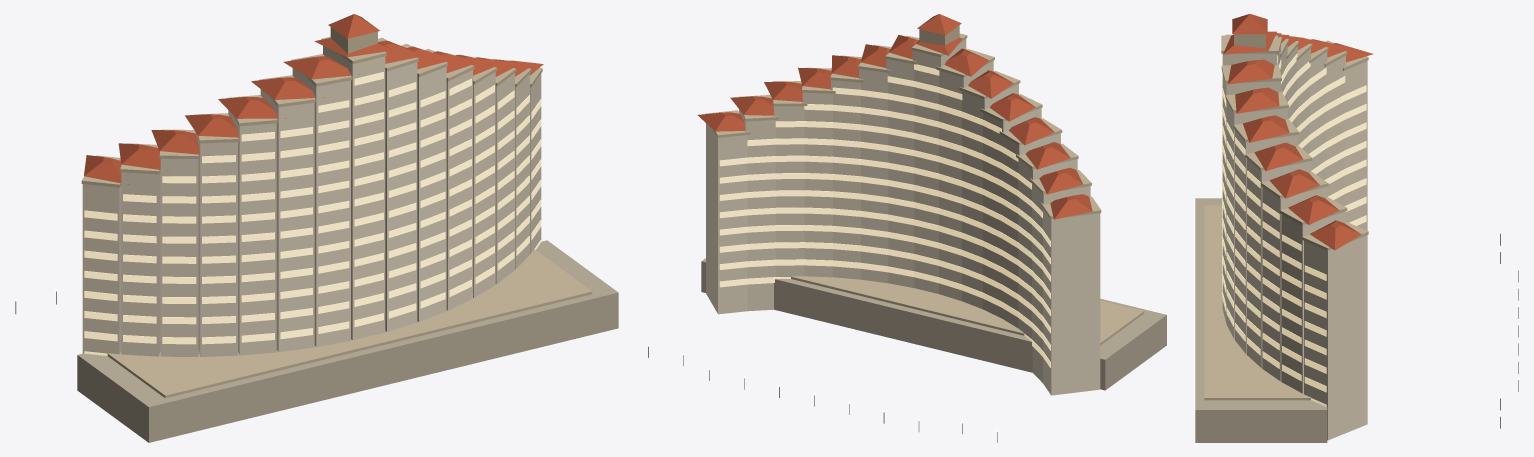
File: hotel-lago.glb
The picture shows the model from 3 angles, left to right: view 1: azimuth 30°, elevation 25°; view 2: azimuth 150°, elevation 25°; view 3: azimuth 270°, elevation 25°; orthographic projection. The views are drawn at different scales.
Visible parts, largest first — view 1: hotel-lago; view 2: hotel-lago; view 3: hotel-lago.
Part boxes in pixels (box(x1,y1,x2,y2)): hotel-lago: box(14, 14, 618, 442); hotel-lago: box(647, 14, 1166, 442); hotel-lago: box(1195, 14, 1519, 442).
Bounding box in the file's own units: 220 × 156 × 142.
